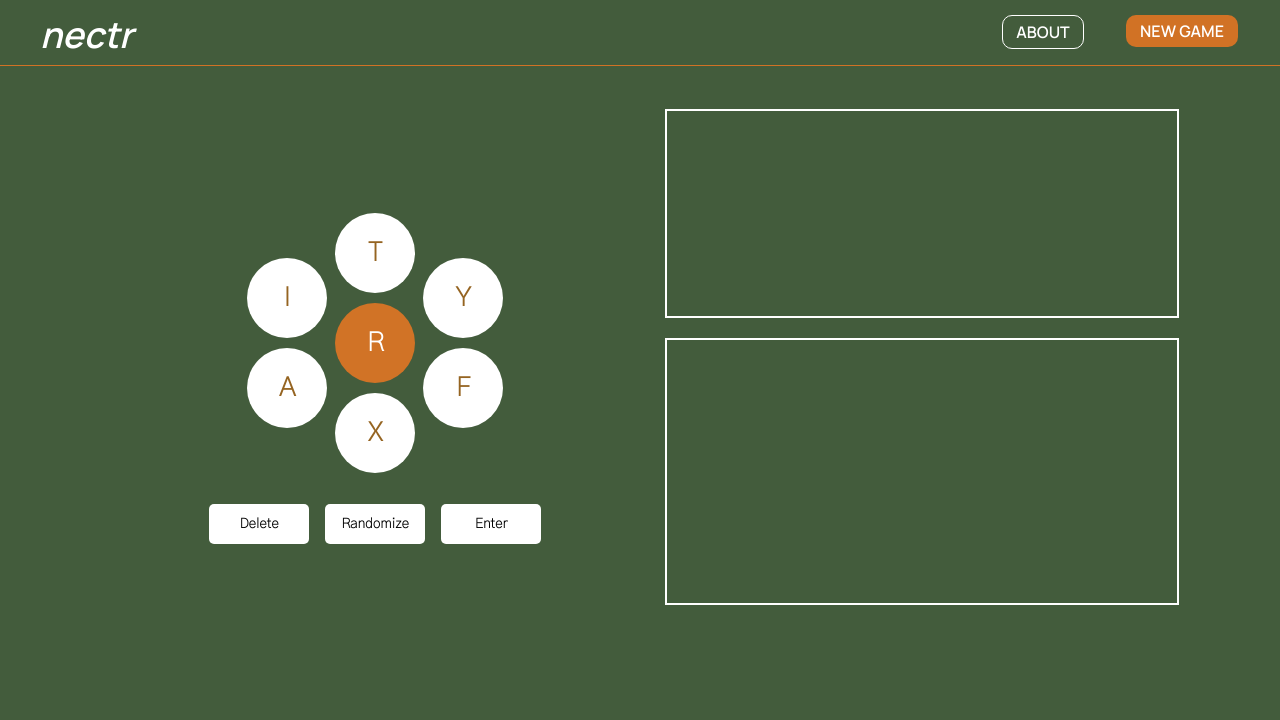
Test: Should properly handle errors › Should display an error input is too short
Click the button with class "boardpiece" showing "X" at (375, 433), box [335, 393, 415, 473]
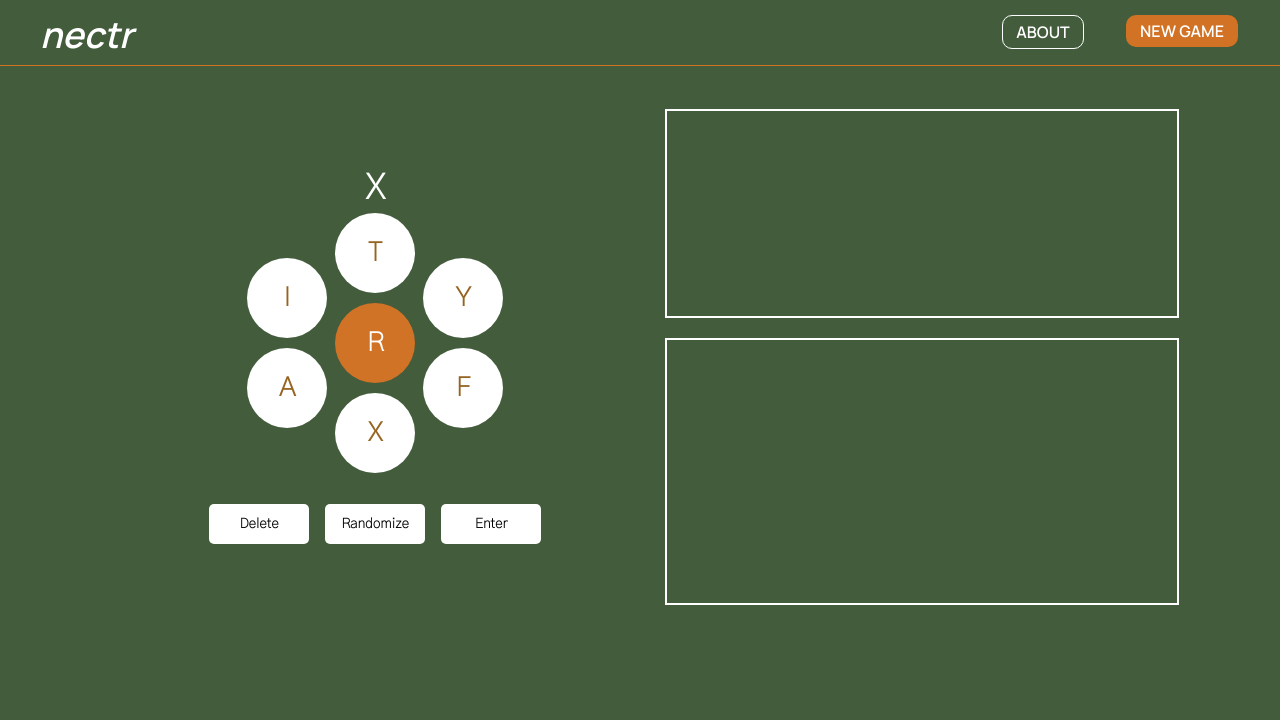
Click the button with class "boardpiece" showing "Y" at (463, 298), box [423, 258, 503, 338]
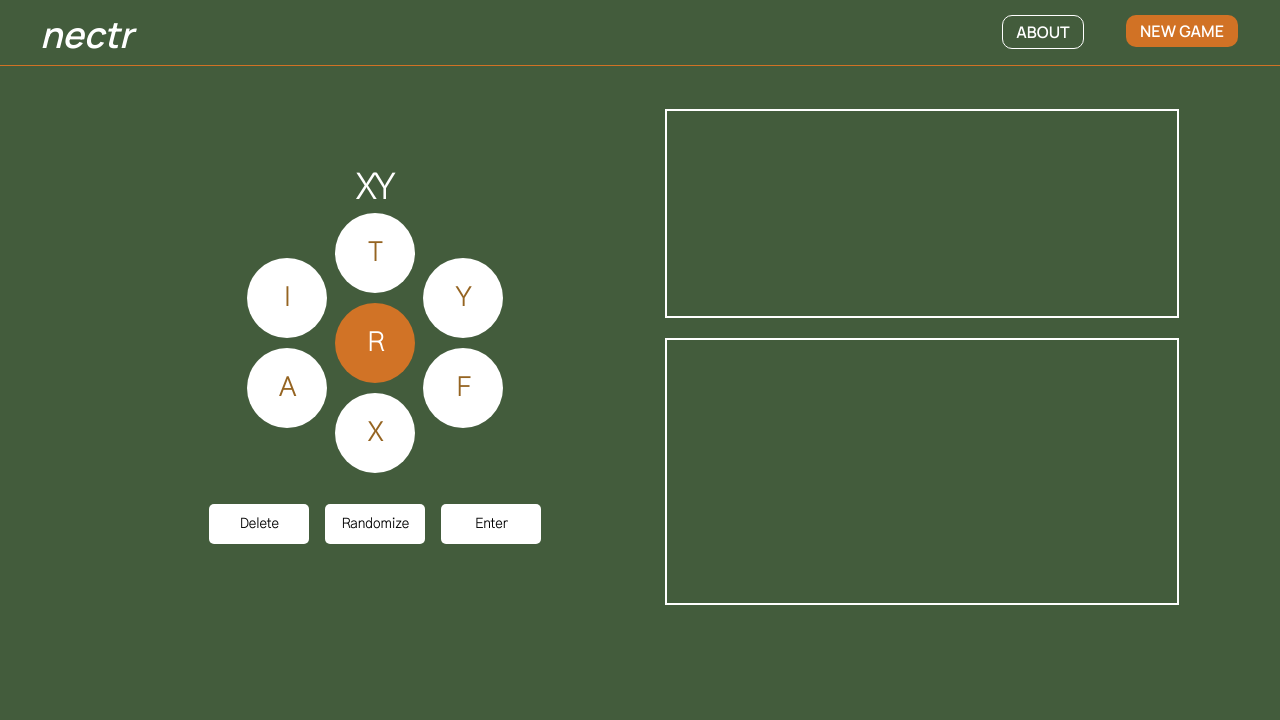
Click the button with class "game-play-button" showing "Enter" at (491, 524), box [441, 504, 541, 544]
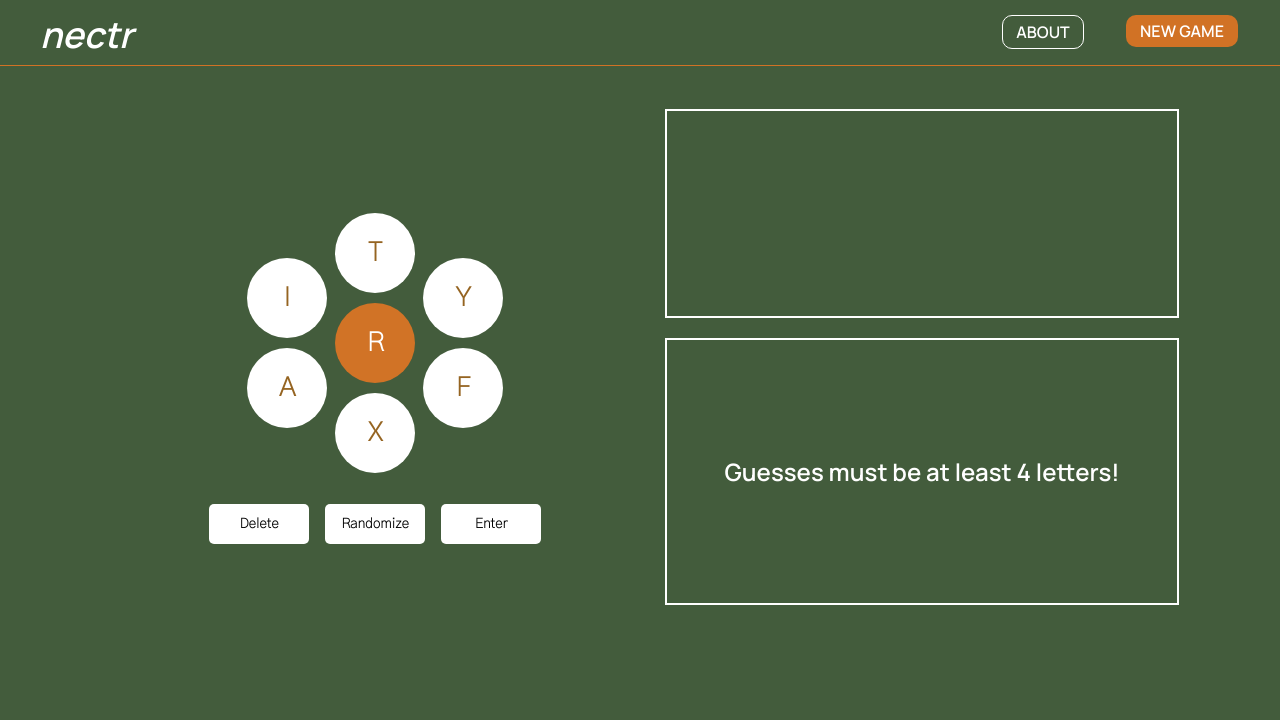
Expected: the element with class "error-card" reads "Guesses must be at least 4 letters!", [665, 338, 1179, 605]
